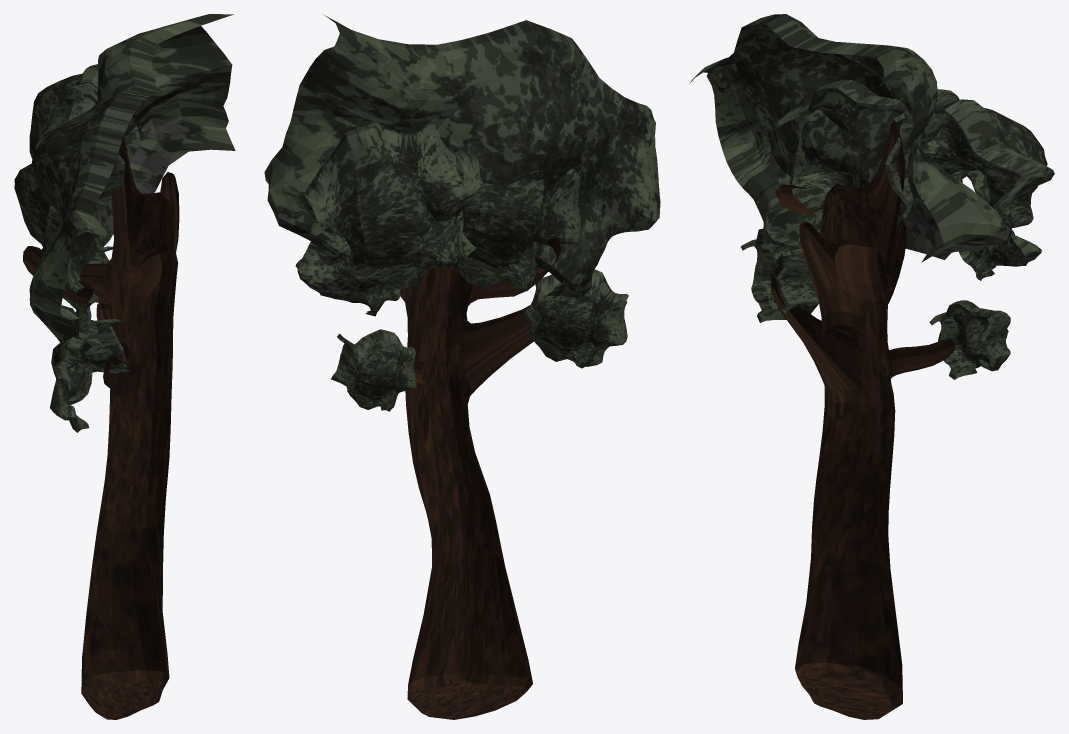
Rendered from arvore p.fbx.
3 renders of one model, left to right at view 1: azimuth 30°, elevation 25°; view 2: azimuth 150°, elevation 25°; view 3: azimuth 270°, elevation 25°, orthographic. The views are drawn at different scales.
Visible parts, largest first — view 1: Cube.006, Plane.009, Plane.007, Plane.005, Plane.008, Plane.010; view 2: Plane.009, Cube.006, Plane.008, Plane.005, Plane.007, Plane.010, Plane.006; view 3: Cube.006, Plane.009, Plane.008, Plane.005, Plane.007, Plane.010, Plane.006.
Boxes of the visible parts, x1,y1,x2,y2 form: Cube.006: (23,136,179,719); Plane.009: (29,14,235,357); Plane.007: (50,319,129,432); Plane.005: (14,125,124,310); Plane.008: (14,64,140,182); Plane.010: (70,246,112,324); Plane.009: (264,14,660,297); Cube.006: (400,237,560,719); Plane.008: (282,122,483,289); Plane.005: (449,149,580,291); Plane.007: (523,269,628,368); Plane.010: (331,329,416,411); Plane.006: (295,231,400,316); Cube.006: (770,121,955,719); Plane.009: (690,14,1010,262); Plane.008: (899,89,1054,263); Plane.005: (774,80,941,232); Plane.007: (741,226,818,322); Plane.010: (929,300,1010,379); Plane.006: (958,208,1041,280).
Bounding box in the file's own units: 77.91 × 167 × 81.54.
Materials: 2 (2 with a texture image).
